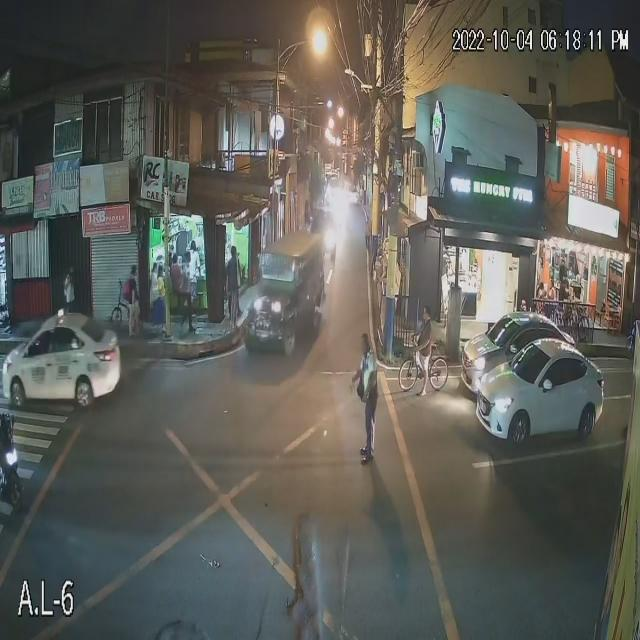motorcycle: (0, 424, 32, 519)
